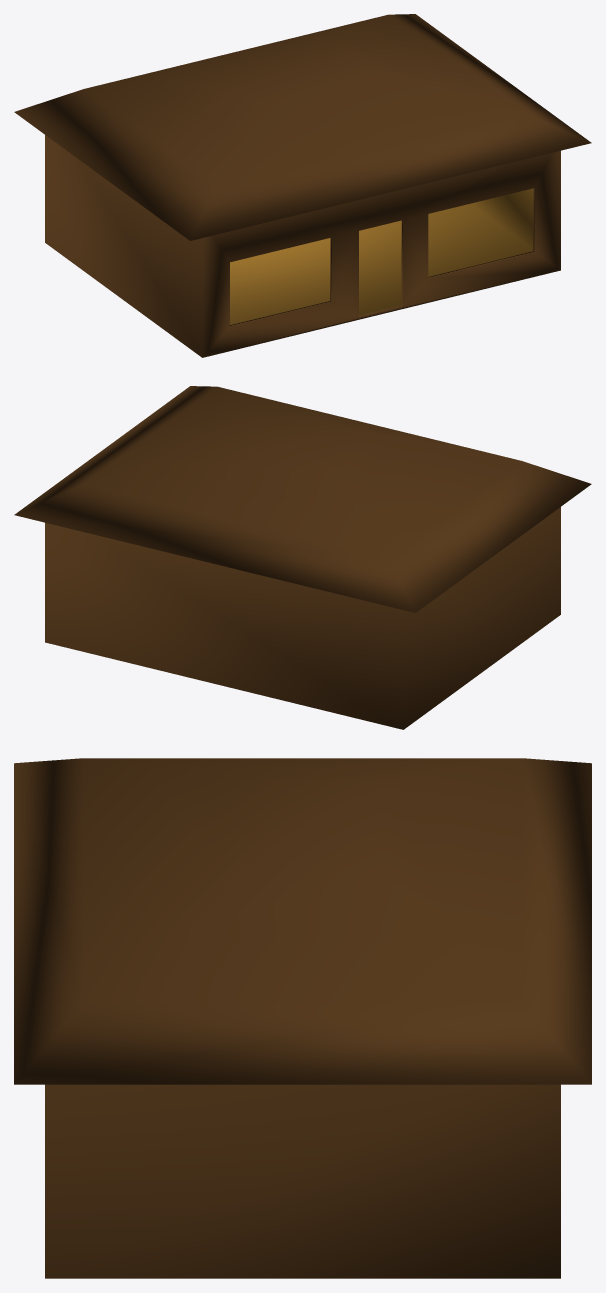
The model's file is house3.fbx.
The picture shows the model from 3 angles, top to bottom: view 1: azimuth 30°, elevation 25°; view 2: azimuth 150°, elevation 25°; view 3: azimuth 270°, elevation 25°; orthographic projection. The views are drawn at different scales.
Visible parts, largest first — view 1: Cube; view 2: Cube; view 3: Cube.
Boxes of the visible parts, x1,y1,x2,y2 form: Cube: (14, 14, 591, 357); Cube: (14, 386, 591, 729); Cube: (14, 758, 591, 1278).
Bounding box in the file's own units: 1660 × 745 × 1262.
